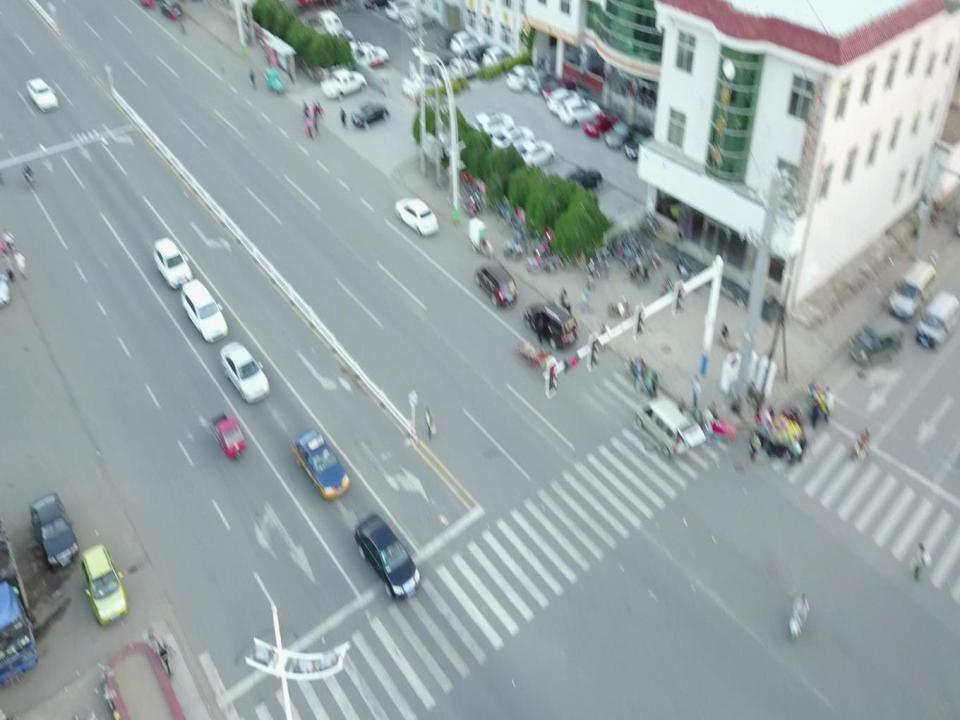car: (352, 510, 422, 601), (291, 427, 351, 501), (79, 543, 129, 629), (28, 488, 80, 570), (219, 338, 270, 404), (180, 276, 228, 344), (152, 236, 194, 289), (395, 197, 439, 236), (558, 96, 604, 128), (25, 76, 60, 112), (473, 108, 515, 138), (351, 40, 389, 71), (349, 100, 389, 129), (400, 72, 445, 97), (604, 115, 636, 148), (505, 63, 540, 92), (492, 125, 534, 149), (541, 75, 577, 103), (547, 88, 583, 115), (584, 110, 618, 138), (450, 30, 486, 56), (443, 57, 480, 79), (481, 45, 512, 70), (385, 0, 413, 20)
truck: (302, 9, 344, 46), (322, 68, 366, 100)
van: (634, 396, 706, 458), (888, 258, 938, 321), (850, 312, 904, 368), (913, 288, 958, 352)
